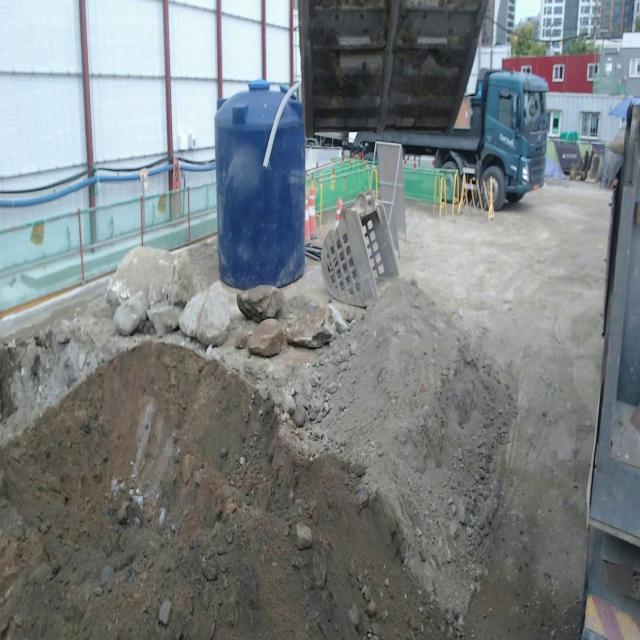cement: (0, 273, 114, 340)
red-sand: (0, 188, 608, 639)
rocks: (245, 365, 331, 460)
stone: (106, 247, 197, 336), (178, 281, 230, 345), (281, 305, 335, 348), (237, 285, 284, 322), (247, 318, 286, 357)
